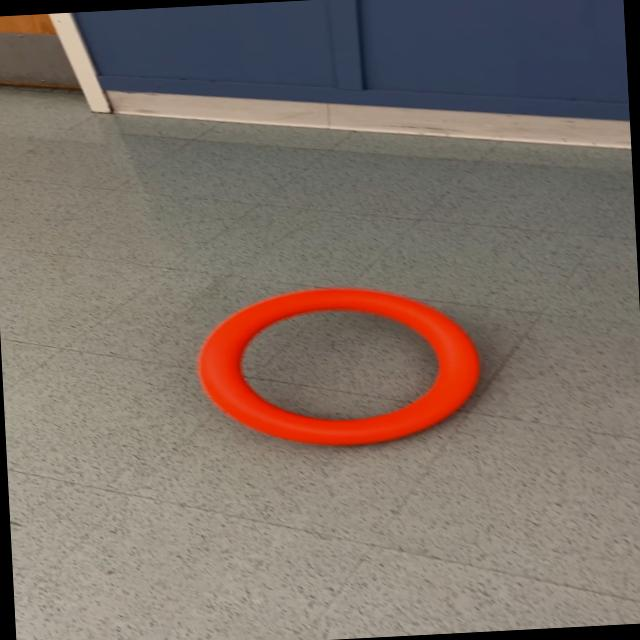note: (191, 278, 487, 455)
